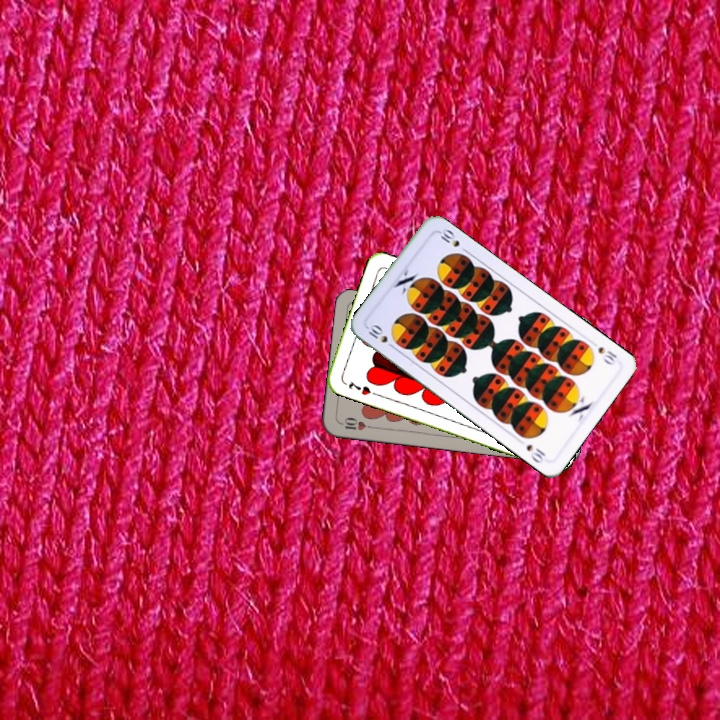H10: (336, 414, 377, 433)
H7: (344, 378, 373, 398)
S10: (363, 320, 398, 352), (594, 343, 620, 368)
